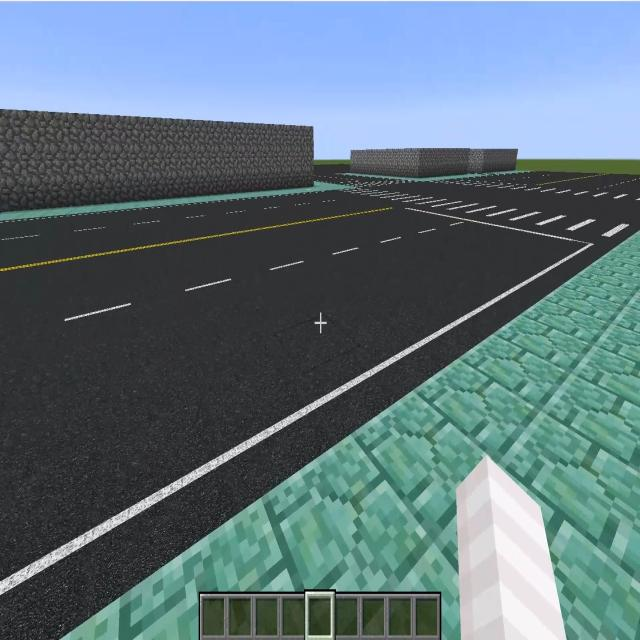crosswalk: (348, 189, 640, 245), (433, 181, 640, 205), (344, 180, 417, 187)
road: (0, 192, 610, 639), (375, 183, 640, 225), (465, 172, 640, 194), (314, 165, 388, 184)
sidewalk: (63, 231, 640, 639), (0, 181, 357, 221), (337, 170, 533, 182)
